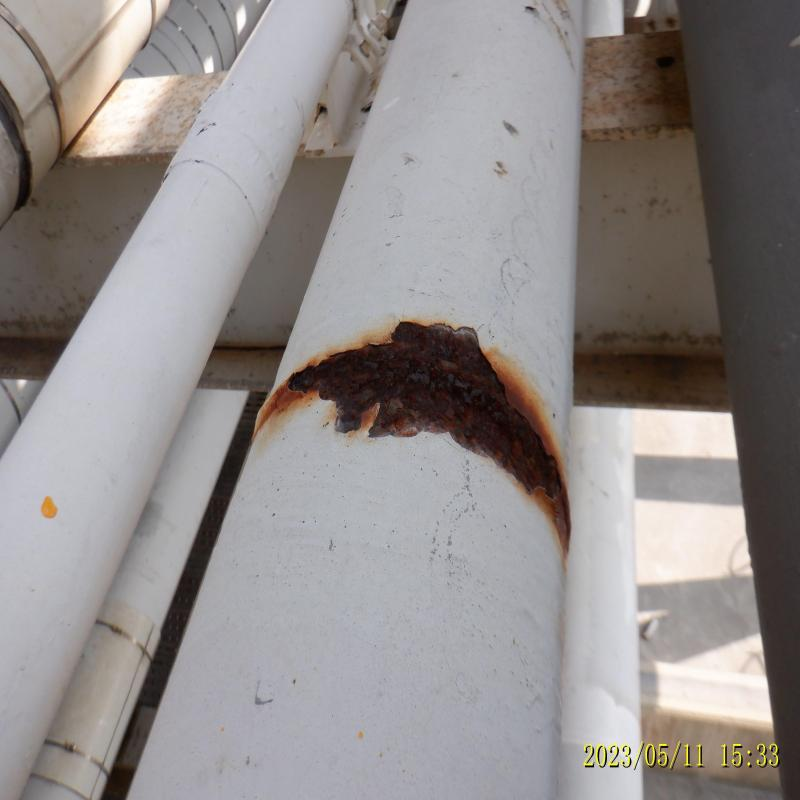corrosion: (347, 352, 500, 428)
